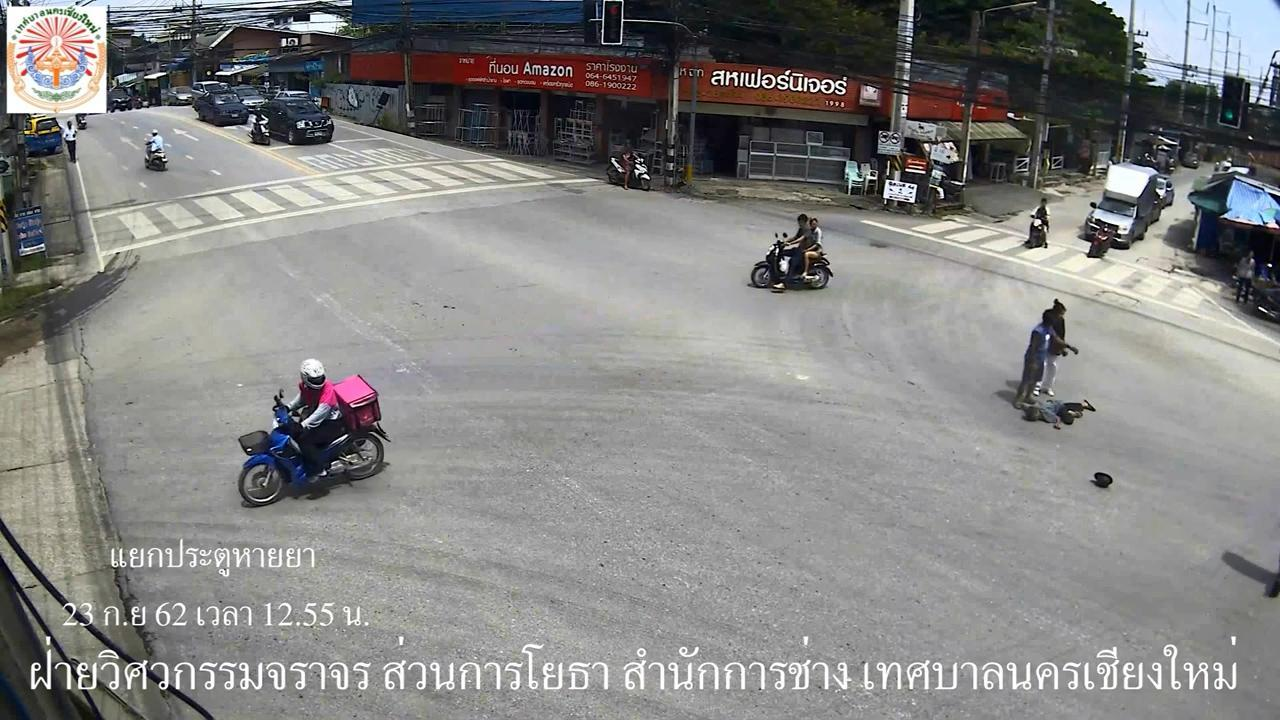accident: (1019, 397, 1100, 433)
